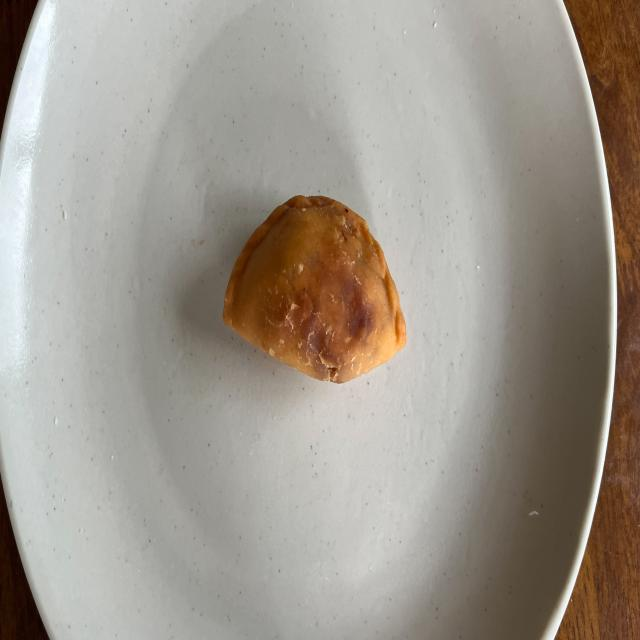karipap: (222, 196, 406, 382)
